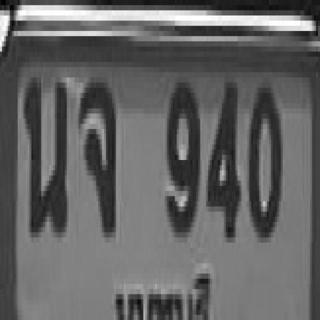A08: (77, 77, 114, 232)
A25: (24, 72, 67, 232)
N00: (247, 83, 281, 232)
N04: (206, 78, 238, 238)
N09: (165, 77, 198, 232)
